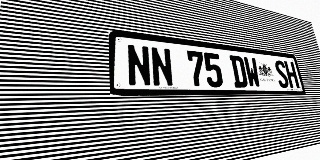5: (203, 52, 224, 87)
7: (185, 50, 208, 87)
D: (229, 55, 249, 88)
H: (284, 61, 300, 88)
N: (126, 44, 152, 87), (150, 46, 174, 87)
S: (273, 60, 290, 88)
W: (243, 57, 261, 88)
